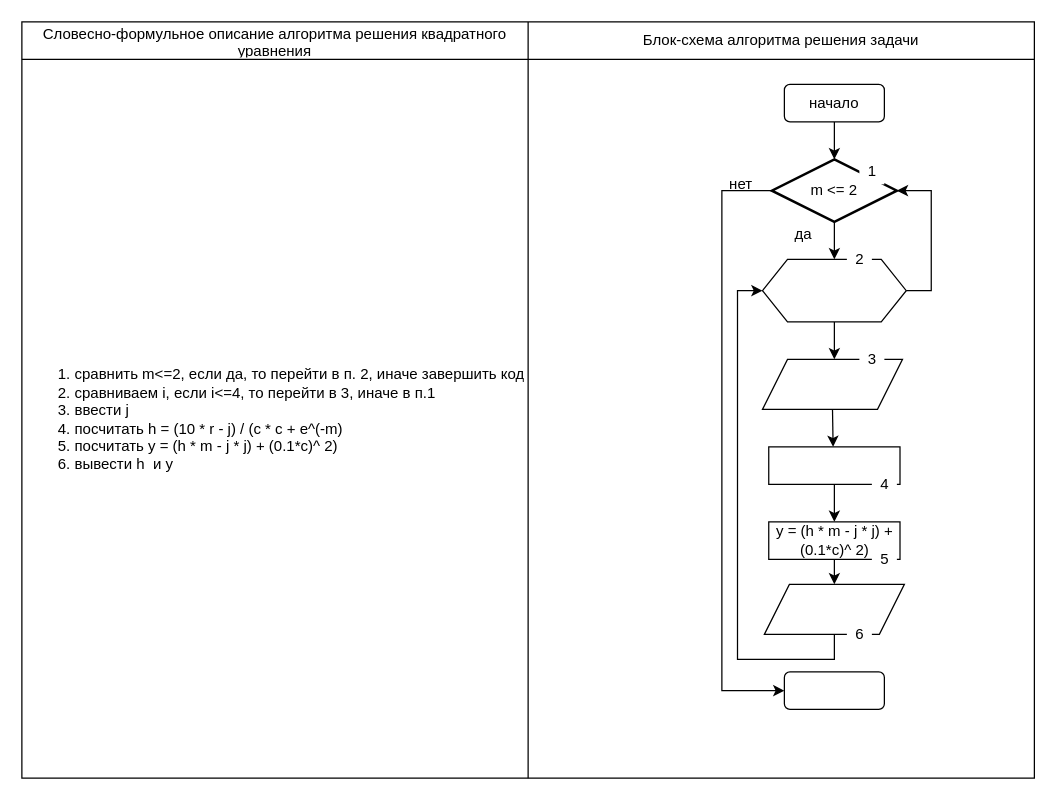
The diagram is 1056 pixels wide and 800 high, and some of its shapes have lost their labels. Here are the shapes that lost their labels. From the top down, the box of each, then its label:
(761, 258, 906, 322): i=0;4
(761, 358, 902, 409): ввод j
(768, 446, 900, 484): h = (10 * r - j) / (c * c + e^(-m)
(763, 583, 904, 634): вывод h, y
(783, 671, 884, 709): конец
